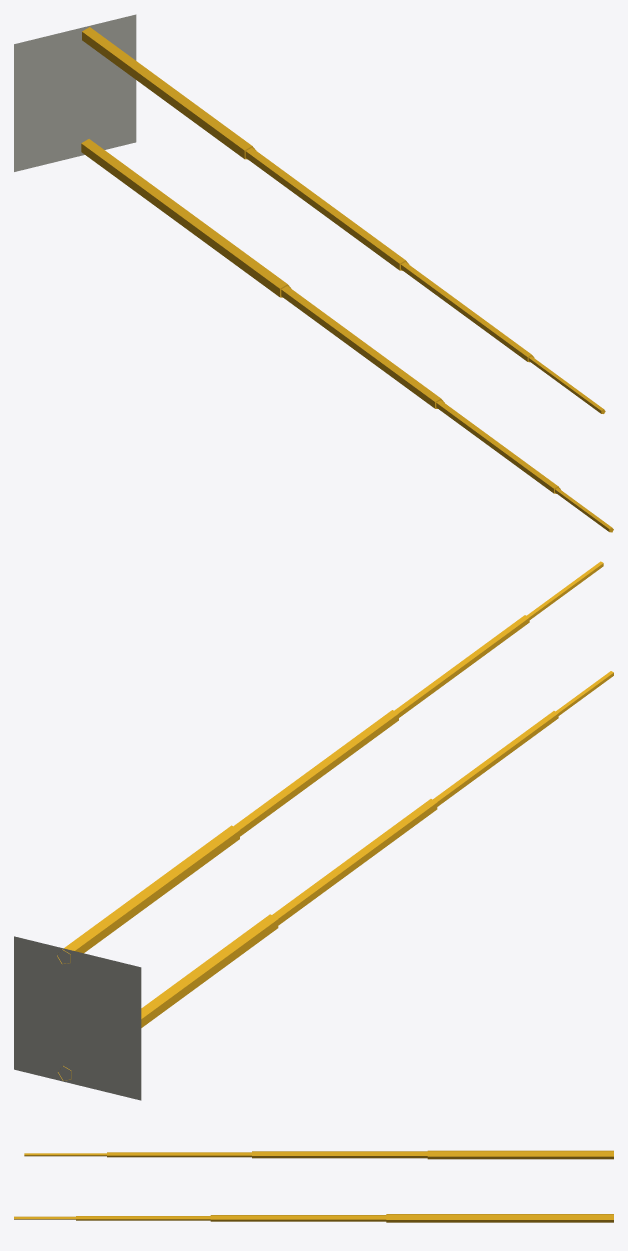
File: construction_1.glb
3 renders of one model, top to bottom at view 1: azimuth 30°, elevation 25°; view 2: azimuth 150°, elevation 25°; view 3: azimuth 270°, elevation 25°, orthographic. The views are drawn at different scales.
Visible parts, largest first — view 1: construction_1; view 2: construction_1; view 3: construction_1.
Boxes of the visible parts, left/top/right/bottom form: construction_1: left=14, top=14, right=613, bottom=532; construction_1: left=14, top=561, right=613, bottom=1100; construction_1: left=14, top=1150, right=613, bottom=1222.
Bounding box in the file's own units: 15.6 × 15.6 × 116.
